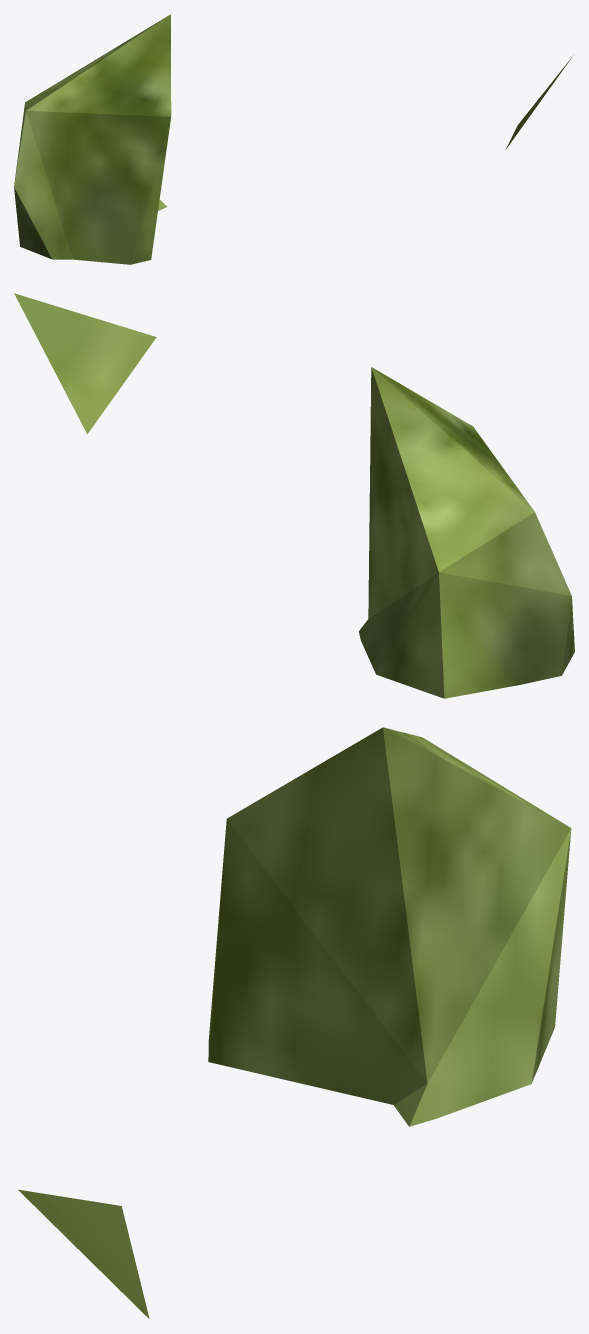
3 views of the same model, one above another, from view 1: azimuth 30°, elevation 25°; view 2: azimuth 150°, elevation 25°; view 3: azimuth 270°, elevation 25° (orthographic). The views are drawn at different scales.
Size of the model in its own units: 4.01 by 1.54 by 1.94.
1 material, 1 textured.
